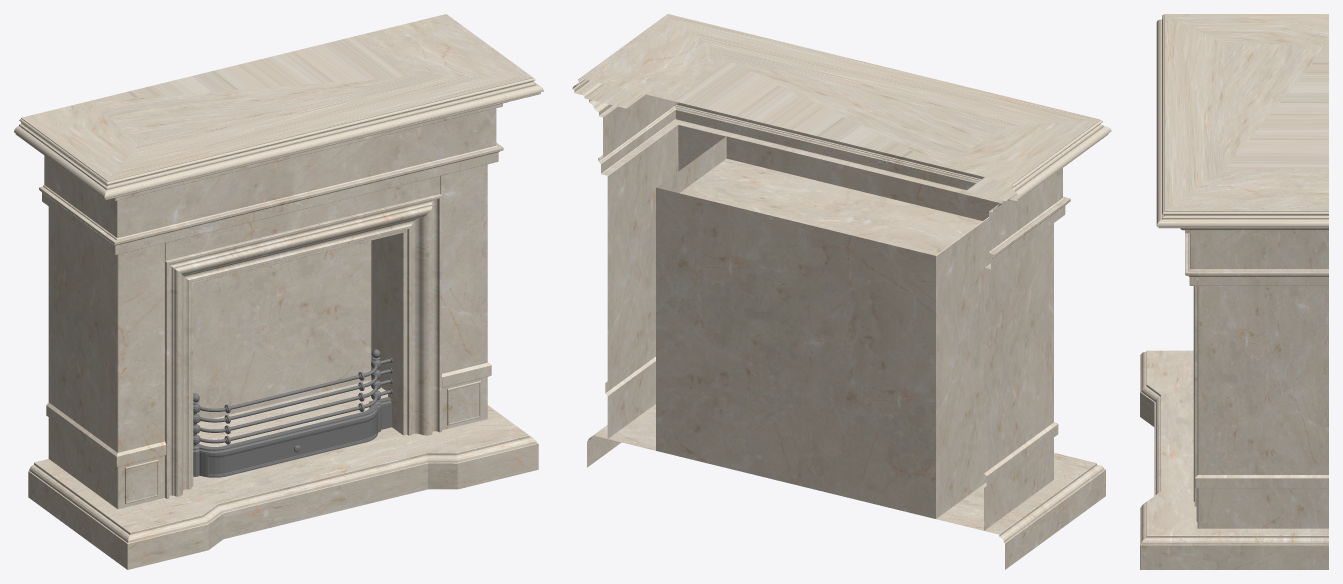
File: fireplace1.obj
3 renders of one model, left to right at view 1: azimuth 30°, elevation 25°; view 2: azimuth 150°, elevation 25°; view 3: azimuth 270°, elevation 25°, orthographic. The views are drawn at different scales.
Visible parts, largest first — view 1: fireplace1_fireplace1_st_tile, fireplace1_fireplace1_standart_metal; view 2: fireplace1_fireplace1_st_tile; view 3: fireplace1_fireplace1_st_tile.
Part boxes in pixels (x1,y1,x2,y2): fireplace1_fireplace1_st_tile: (14, 14, 543, 569); fireplace1_fireplace1_standart_metal: (193, 349, 392, 477); fireplace1_fireplace1_st_tile: (572, 14, 1111, 569); fireplace1_fireplace1_st_tile: (1140, 14, 1328, 569).
Bounding box in the file's own units: 1678 × 1391 × 657.
2 materials, 2 textured.
